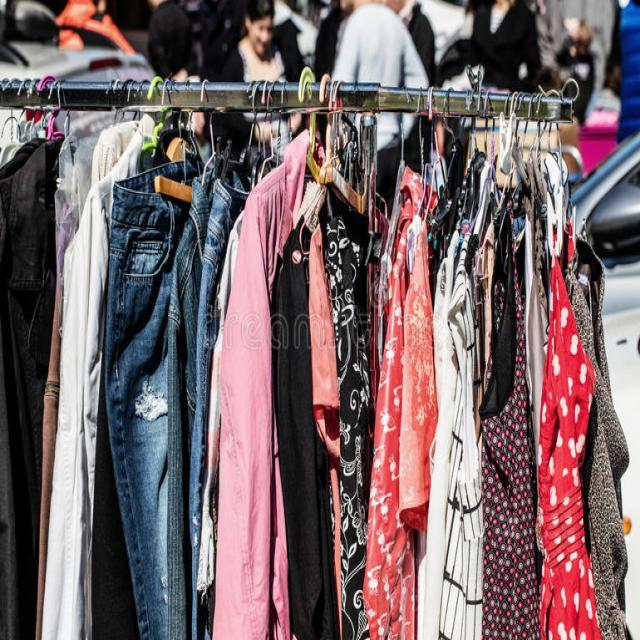clothes: (0, 117, 628, 640)
